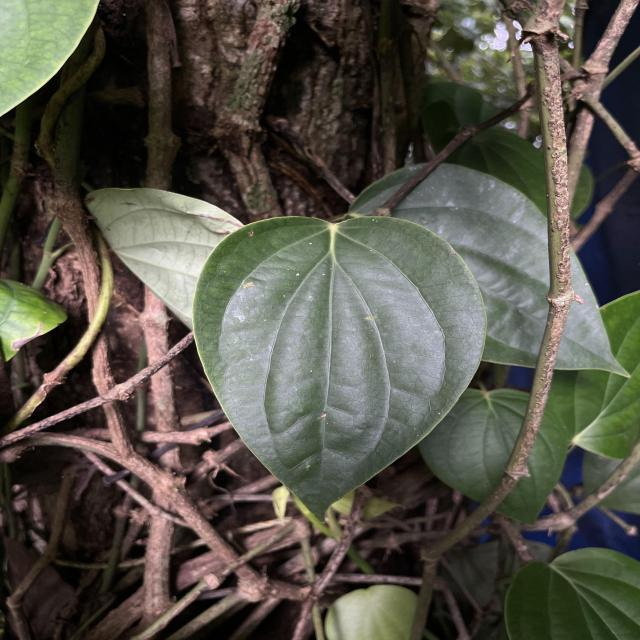Piper nigrum: (188, 212, 491, 525)
